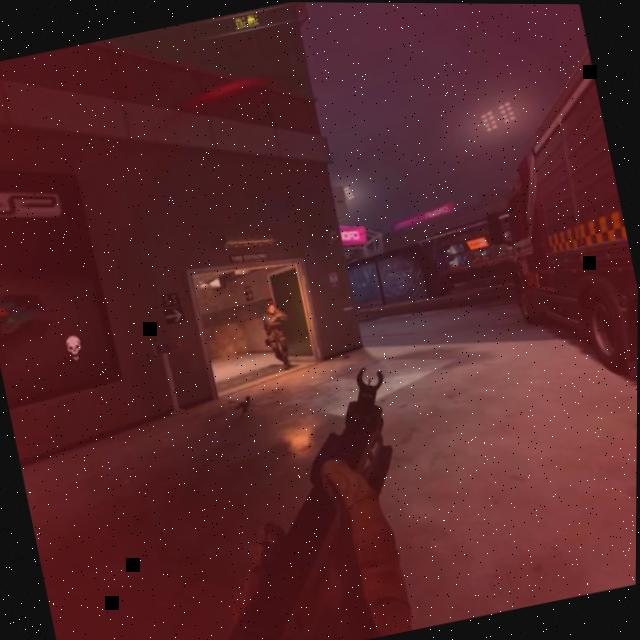MW2_body: (259, 298, 299, 372)
